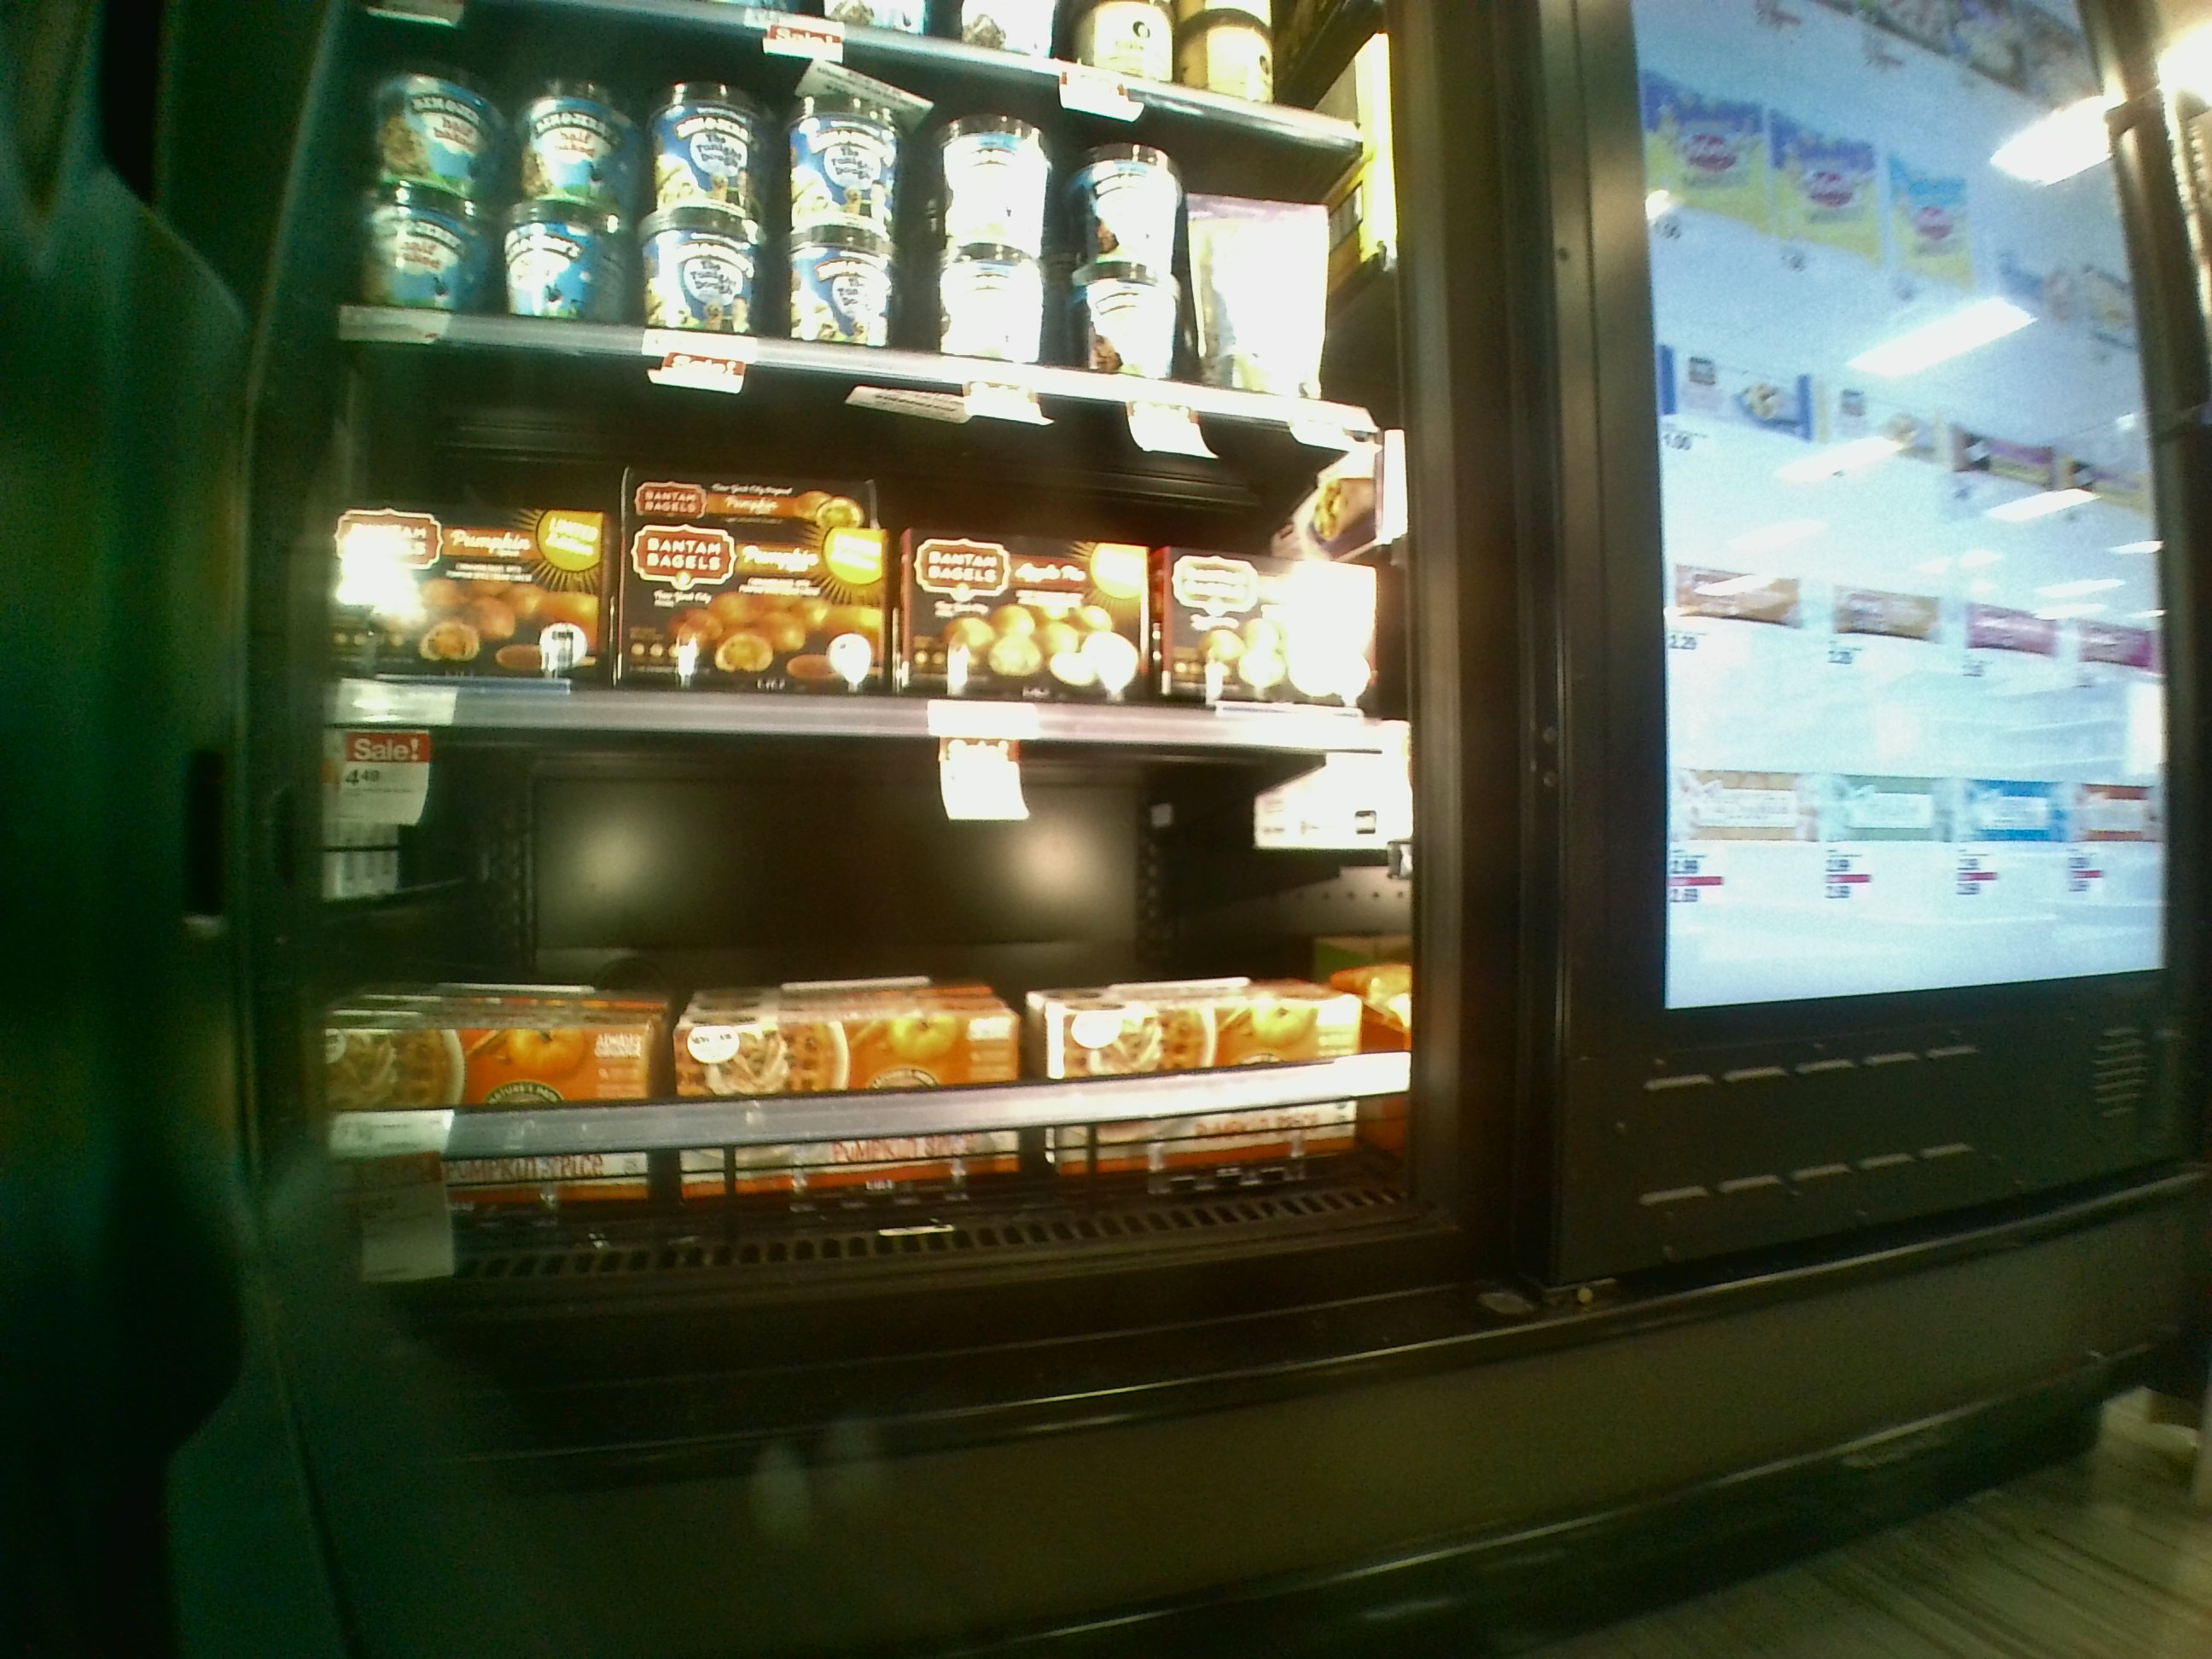shelf: (294, 694, 1416, 1290), (312, 324, 1388, 749)
